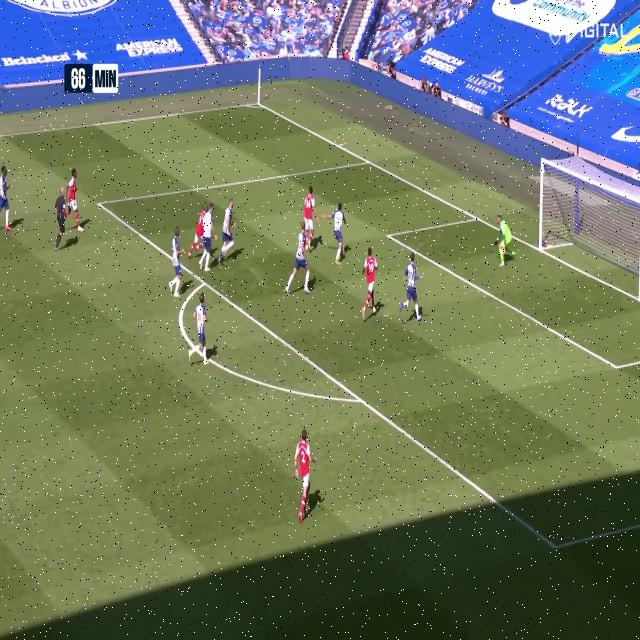GoalKeeper: (491, 212, 518, 271)
TEAM 1: (294, 428, 315, 524), (359, 246, 382, 318), (66, 164, 88, 232), (302, 184, 320, 251), (190, 198, 205, 264)
TEAM 2: (396, 245, 425, 329), (284, 225, 314, 306), (189, 292, 216, 374), (320, 197, 350, 270), (166, 223, 185, 309), (198, 203, 218, 276), (1, 162, 18, 232), (222, 194, 236, 272)
